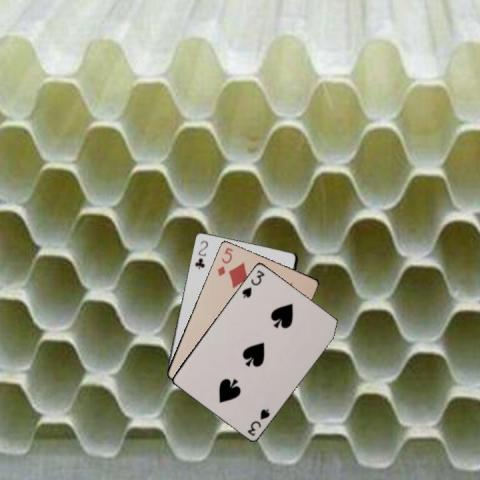2c: (192, 237, 210, 271)
3s: (239, 266, 266, 298), (244, 405, 271, 437)
5d: (214, 244, 234, 277)
